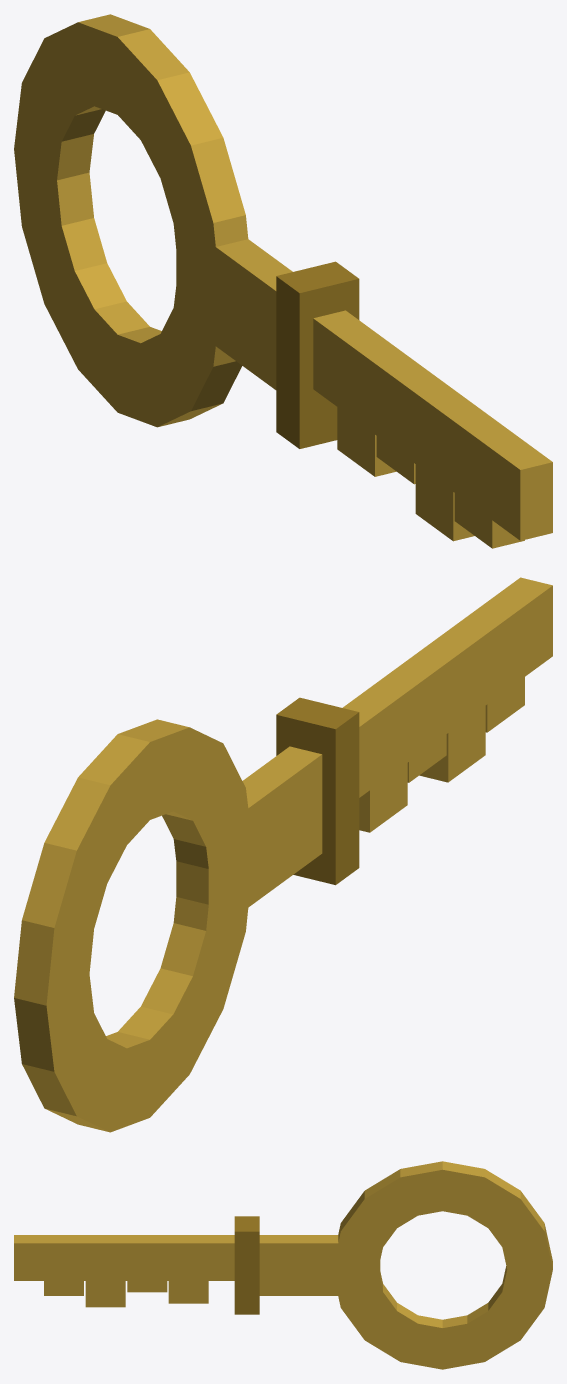
Rendered from Chave.fbx.
3 views of the same model, one above another, from view 1: azimuth 30°, elevation 25°; view 2: azimuth 150°, elevation 25°; view 3: azimuth 270°, elevation 25° (orthographic). The views are drawn at different scales.
Visible parts, largest first — view 1: Chave; view 2: Chave; view 3: Chave.
Part boxes in pixels (box(x1,y1,x2,y2)): Chave: box(14, 14, 552, 548); Chave: box(14, 577, 552, 1132); Chave: box(14, 1161, 552, 1369).
Bounding box in the file's own units: 0.0044 × 0.0265 × 0.0648.
1 material, 1 textured.
